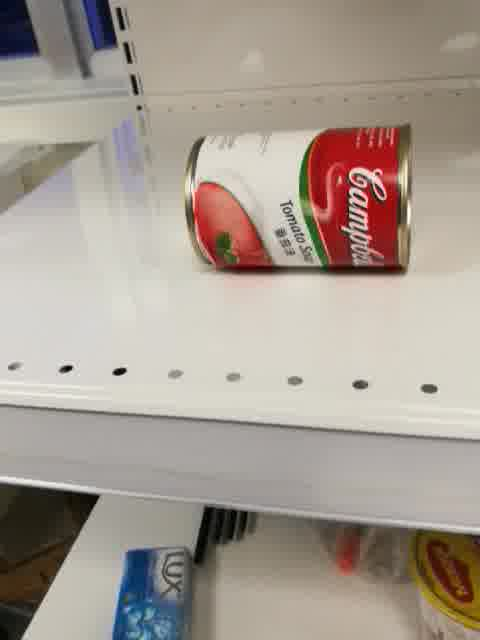tomatosoup: (184, 119, 413, 279)
